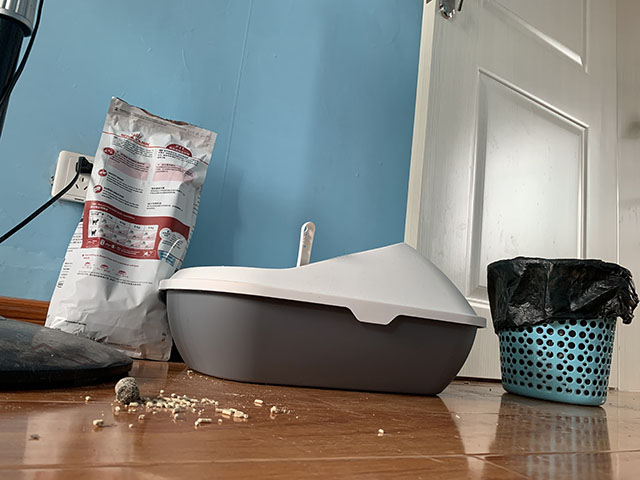feces: (114, 375, 140, 404)
trashcan: (486, 254, 640, 409)
